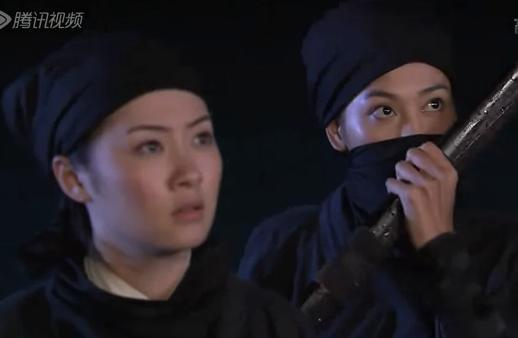NONE: (112, 106, 223, 246)
WRONG: (347, 83, 459, 195)
